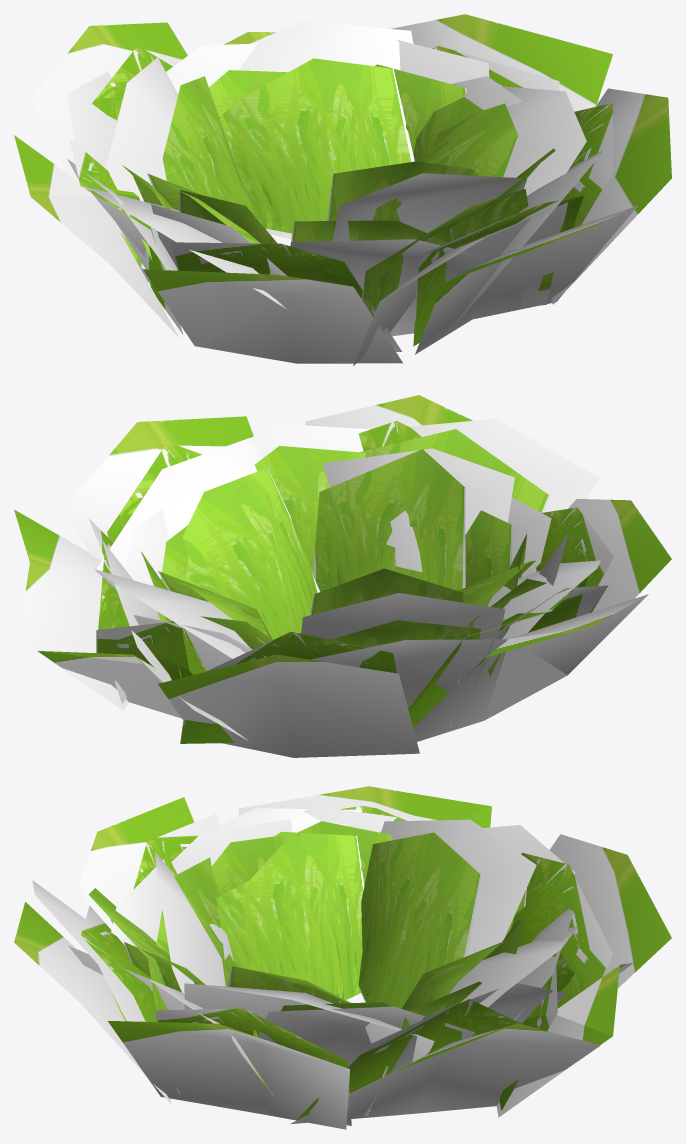
The model's file is Prop_Grass.fbx.
The picture shows the model from 3 angles, top to bottom: view 1: azimuth 30°, elevation 25°; view 2: azimuth 150°, elevation 25°; view 3: azimuth 270°, elevation 25°; orthographic projection. The views are drawn at different scales.
Parts seen in each view (by area): view 1: GrassDryMesh001, GrassMesh001; view 2: GrassDryMesh001, GrassMesh001; view 3: GrassDryMesh001, GrassMesh001.
Part boxes in pixels (<box>): GrassDryMesh001: <box>14,14,671,365</box>; GrassMesh001: <box>69,46,612,351</box>; GrassDryMesh001: <box>14,395,671,757</box>; GrassMesh001: <box>88,421,613,743</box>; GrassDryMesh001: <box>14,786,671,1129</box>; GrassMesh001: <box>81,805,612,1125</box>.
Bounding box in the file's own units: 49.14 × 14.26 × 49.76.
